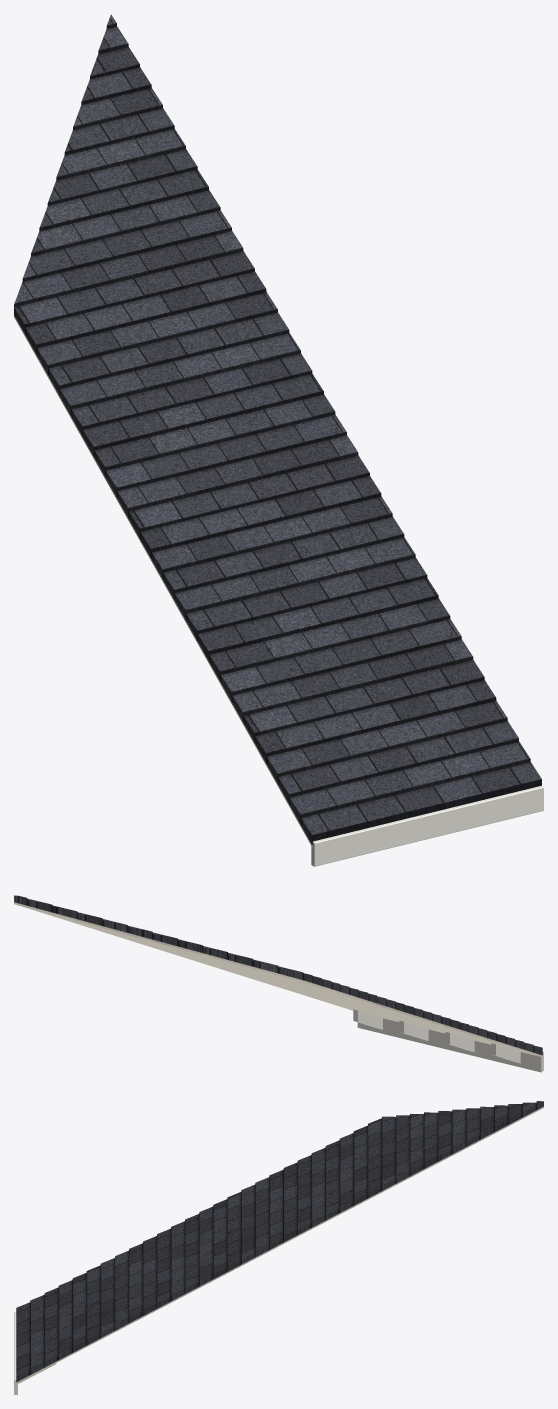
The model's file is roof_main_2_l_porch.glb.
3 views of the same model, one above another, from view 1: azimuth 30°, elevation 25°; view 2: azimuth 150°, elevation 25°; view 3: azimuth 270°, elevation 25° (orthographic). The views are drawn at different scales.
Visible parts, largest first — view 1: roof_main_2_l_porch_shingles, roof_main_2_l_porch_trim, roof_main_2_l_porch_plaster; view 2: roof_main_2_l_porch_plaster, roof_main_2_l_porch_shingles, roof_main_2_l_porch_trim; view 3: roof_main_2_l_porch_shingles, roof_main_2_l_porch_plaster.
Part boxes in pixels (<box>): roof_main_2_l_porch_shingles: <box>14,14,541,844</box>; roof_main_2_l_porch_trim: <box>311,785,543,866</box>; roof_main_2_l_porch_plaster: <box>14,315,312,847</box>; roof_main_2_l_porch_plaster: <box>14,902,542,1057</box>; roof_main_2_l_porch_shingles: <box>14,895,542,1055</box>; roof_main_2_l_porch_trim: <box>353,1009,543,1072</box>; roof_main_2_l_porch_shingles: <box>16,1101,543,1382</box>; roof_main_2_l_porch_plaster: <box>16,1106,543,1383</box>.
Bounding box in the file's own units: 2 × 3.99 × 6.53.
3 materials, 2 textured.
